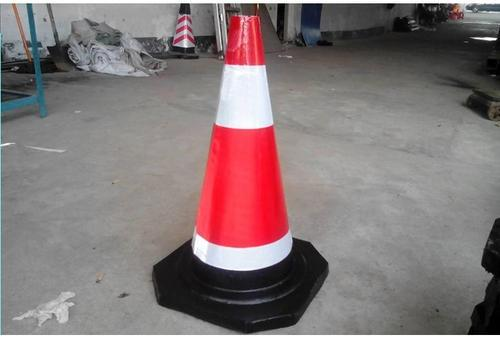cone_barrel: (179, 9, 304, 291), (167, 5, 199, 53)
